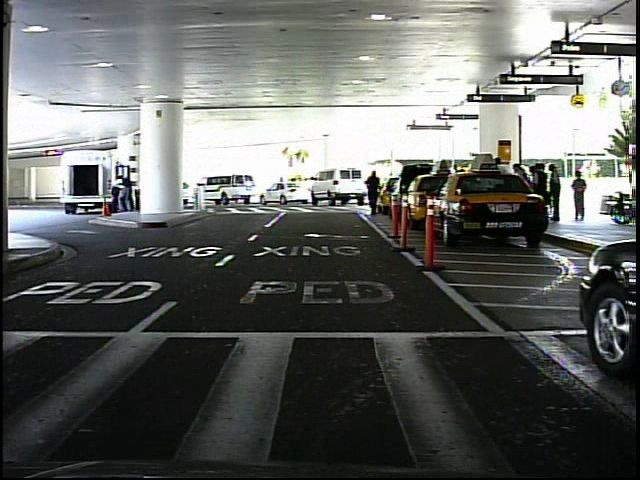person: (364, 168, 386, 218), (571, 170, 590, 226), (110, 174, 125, 215)
